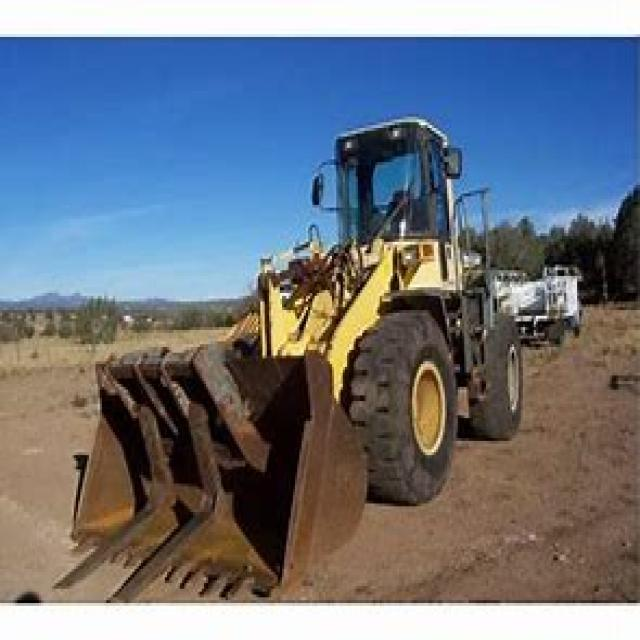buldozerpayloadergrader: (65, 108, 527, 600)
